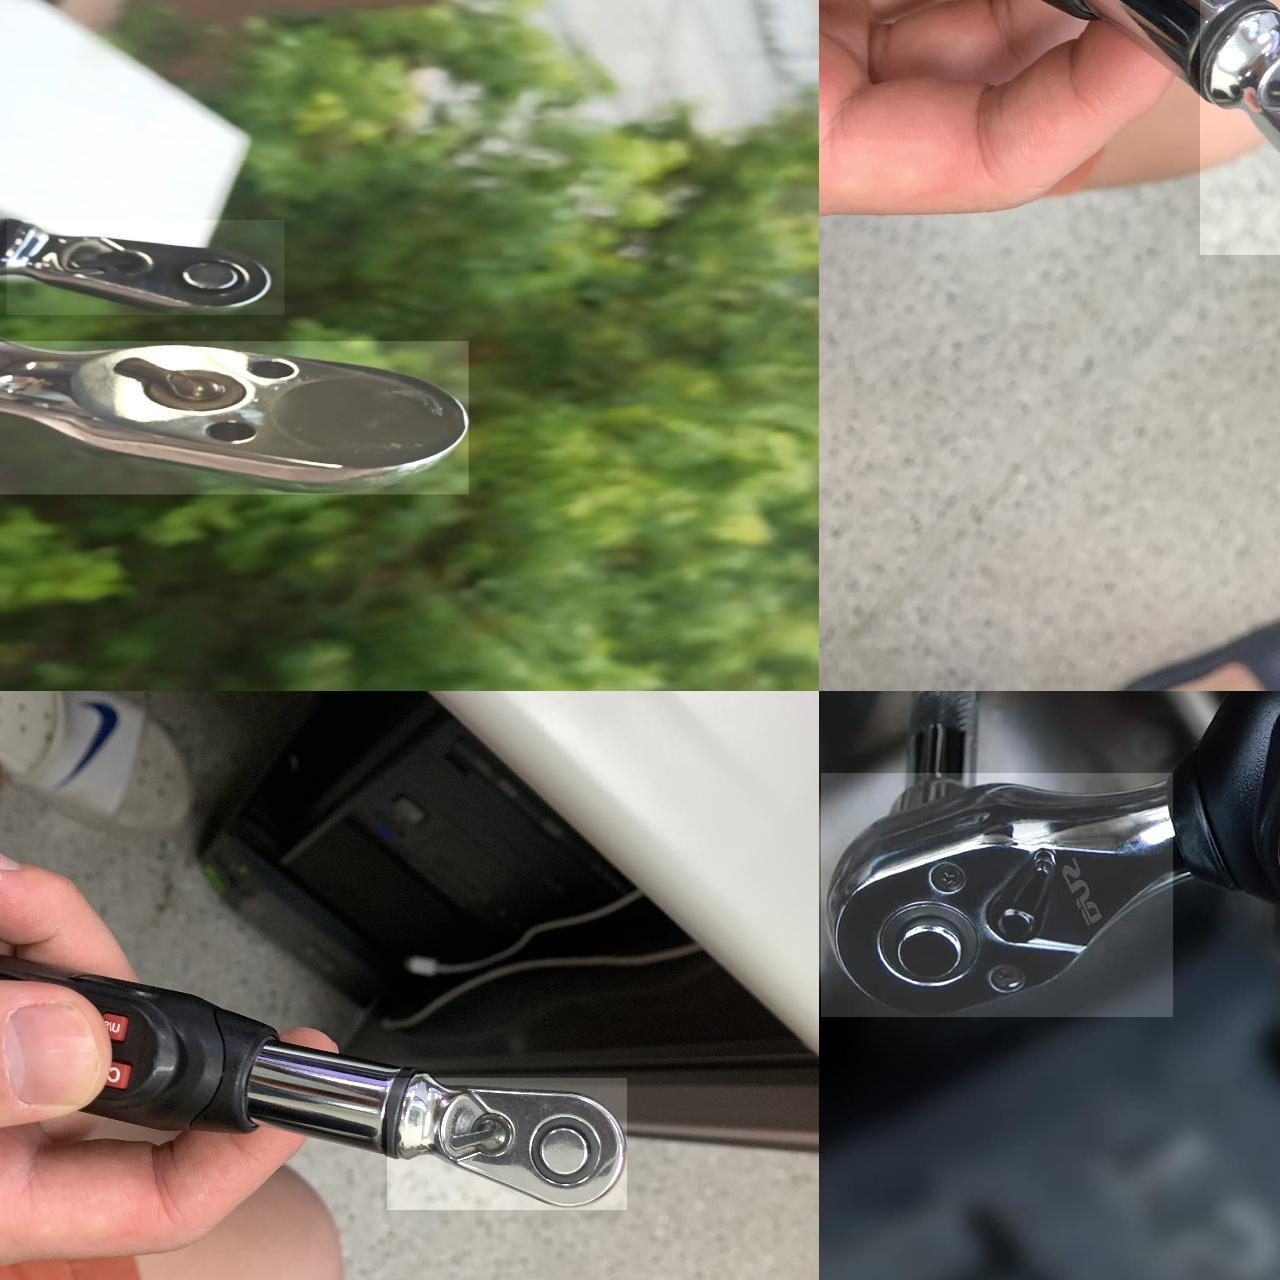Tool: (821, 773, 1173, 1017), (0, 342, 469, 494), (387, 1078, 627, 1210), (7, 220, 284, 314), (1200, 0, 1280, 255)
